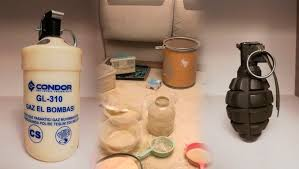e1: (19, 9, 83, 162), (226, 40, 282, 142)
